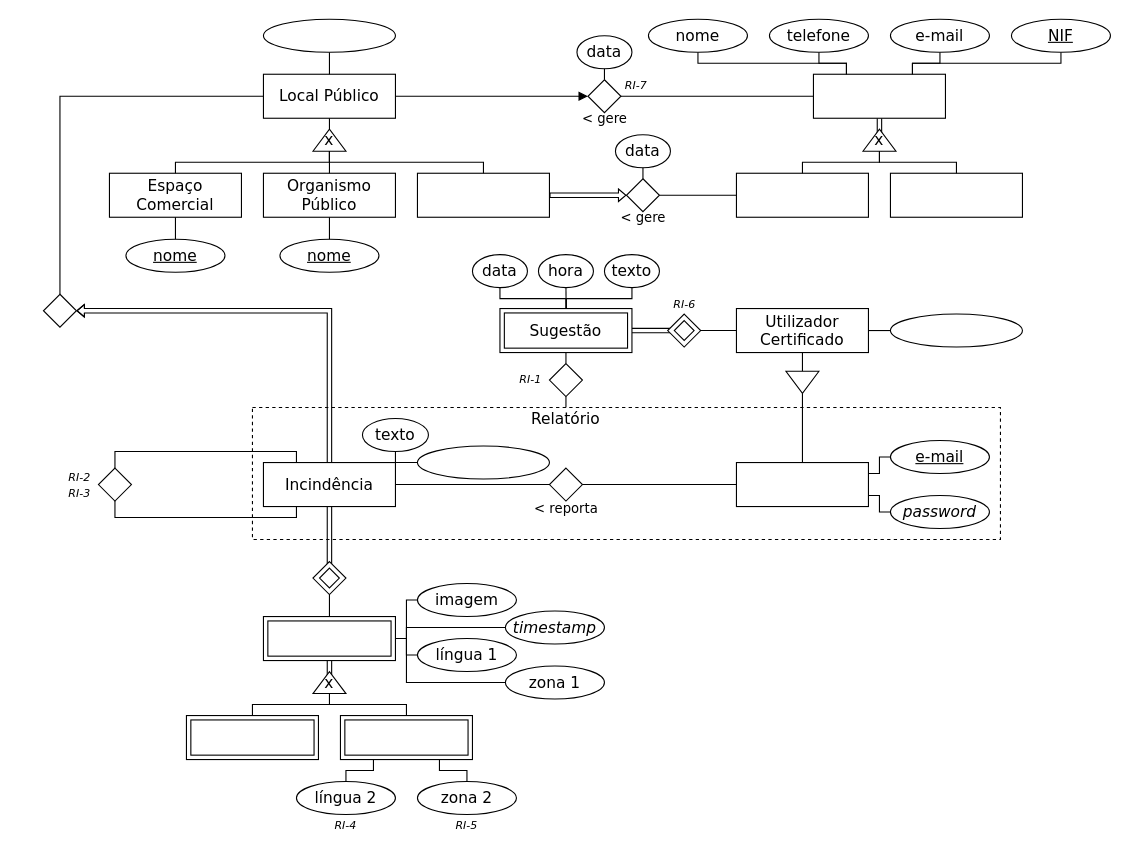
The diagram is 1130 pixels wide and 856 high, and some of its shapes have lost their labels. Here are the shapes that lost their labels. From the top down, the centre of each, then its label:
[328,35]: coordenadas
[878,95]: Entidade Responsável
[482,194]: Via Pública
[801,194]: Entidade Pública
[955,194]: Entidade Privada
[59,310]: < ocorre em
[684,330]: < dá
[955,330]: utilizador ID
[565,379]: sugerida sobre v
[482,462]: incidência ID
[114,484]: duplicada de
[801,484]: Utilizador
[329,577]: possui v
[328,638]: Anomalia
[251,737]: Anomalia de Redação
[405,737]: Anomalia de Tradução
